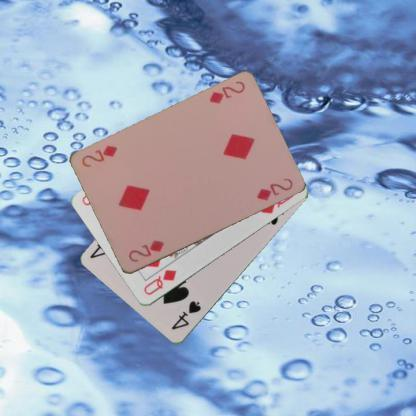2d: (206, 78, 246, 106), (125, 237, 166, 264)
4s: (169, 298, 203, 332)
Qd: (141, 267, 178, 297)
